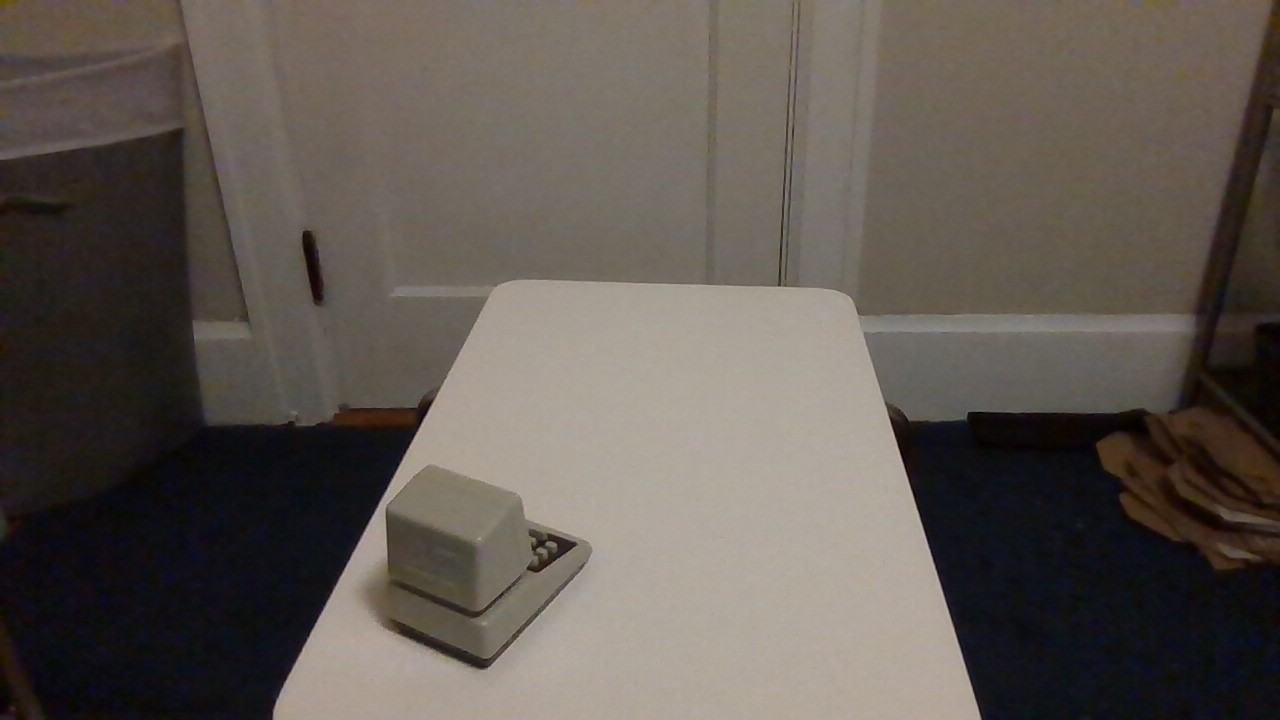Toy: (351, 437, 606, 690)
